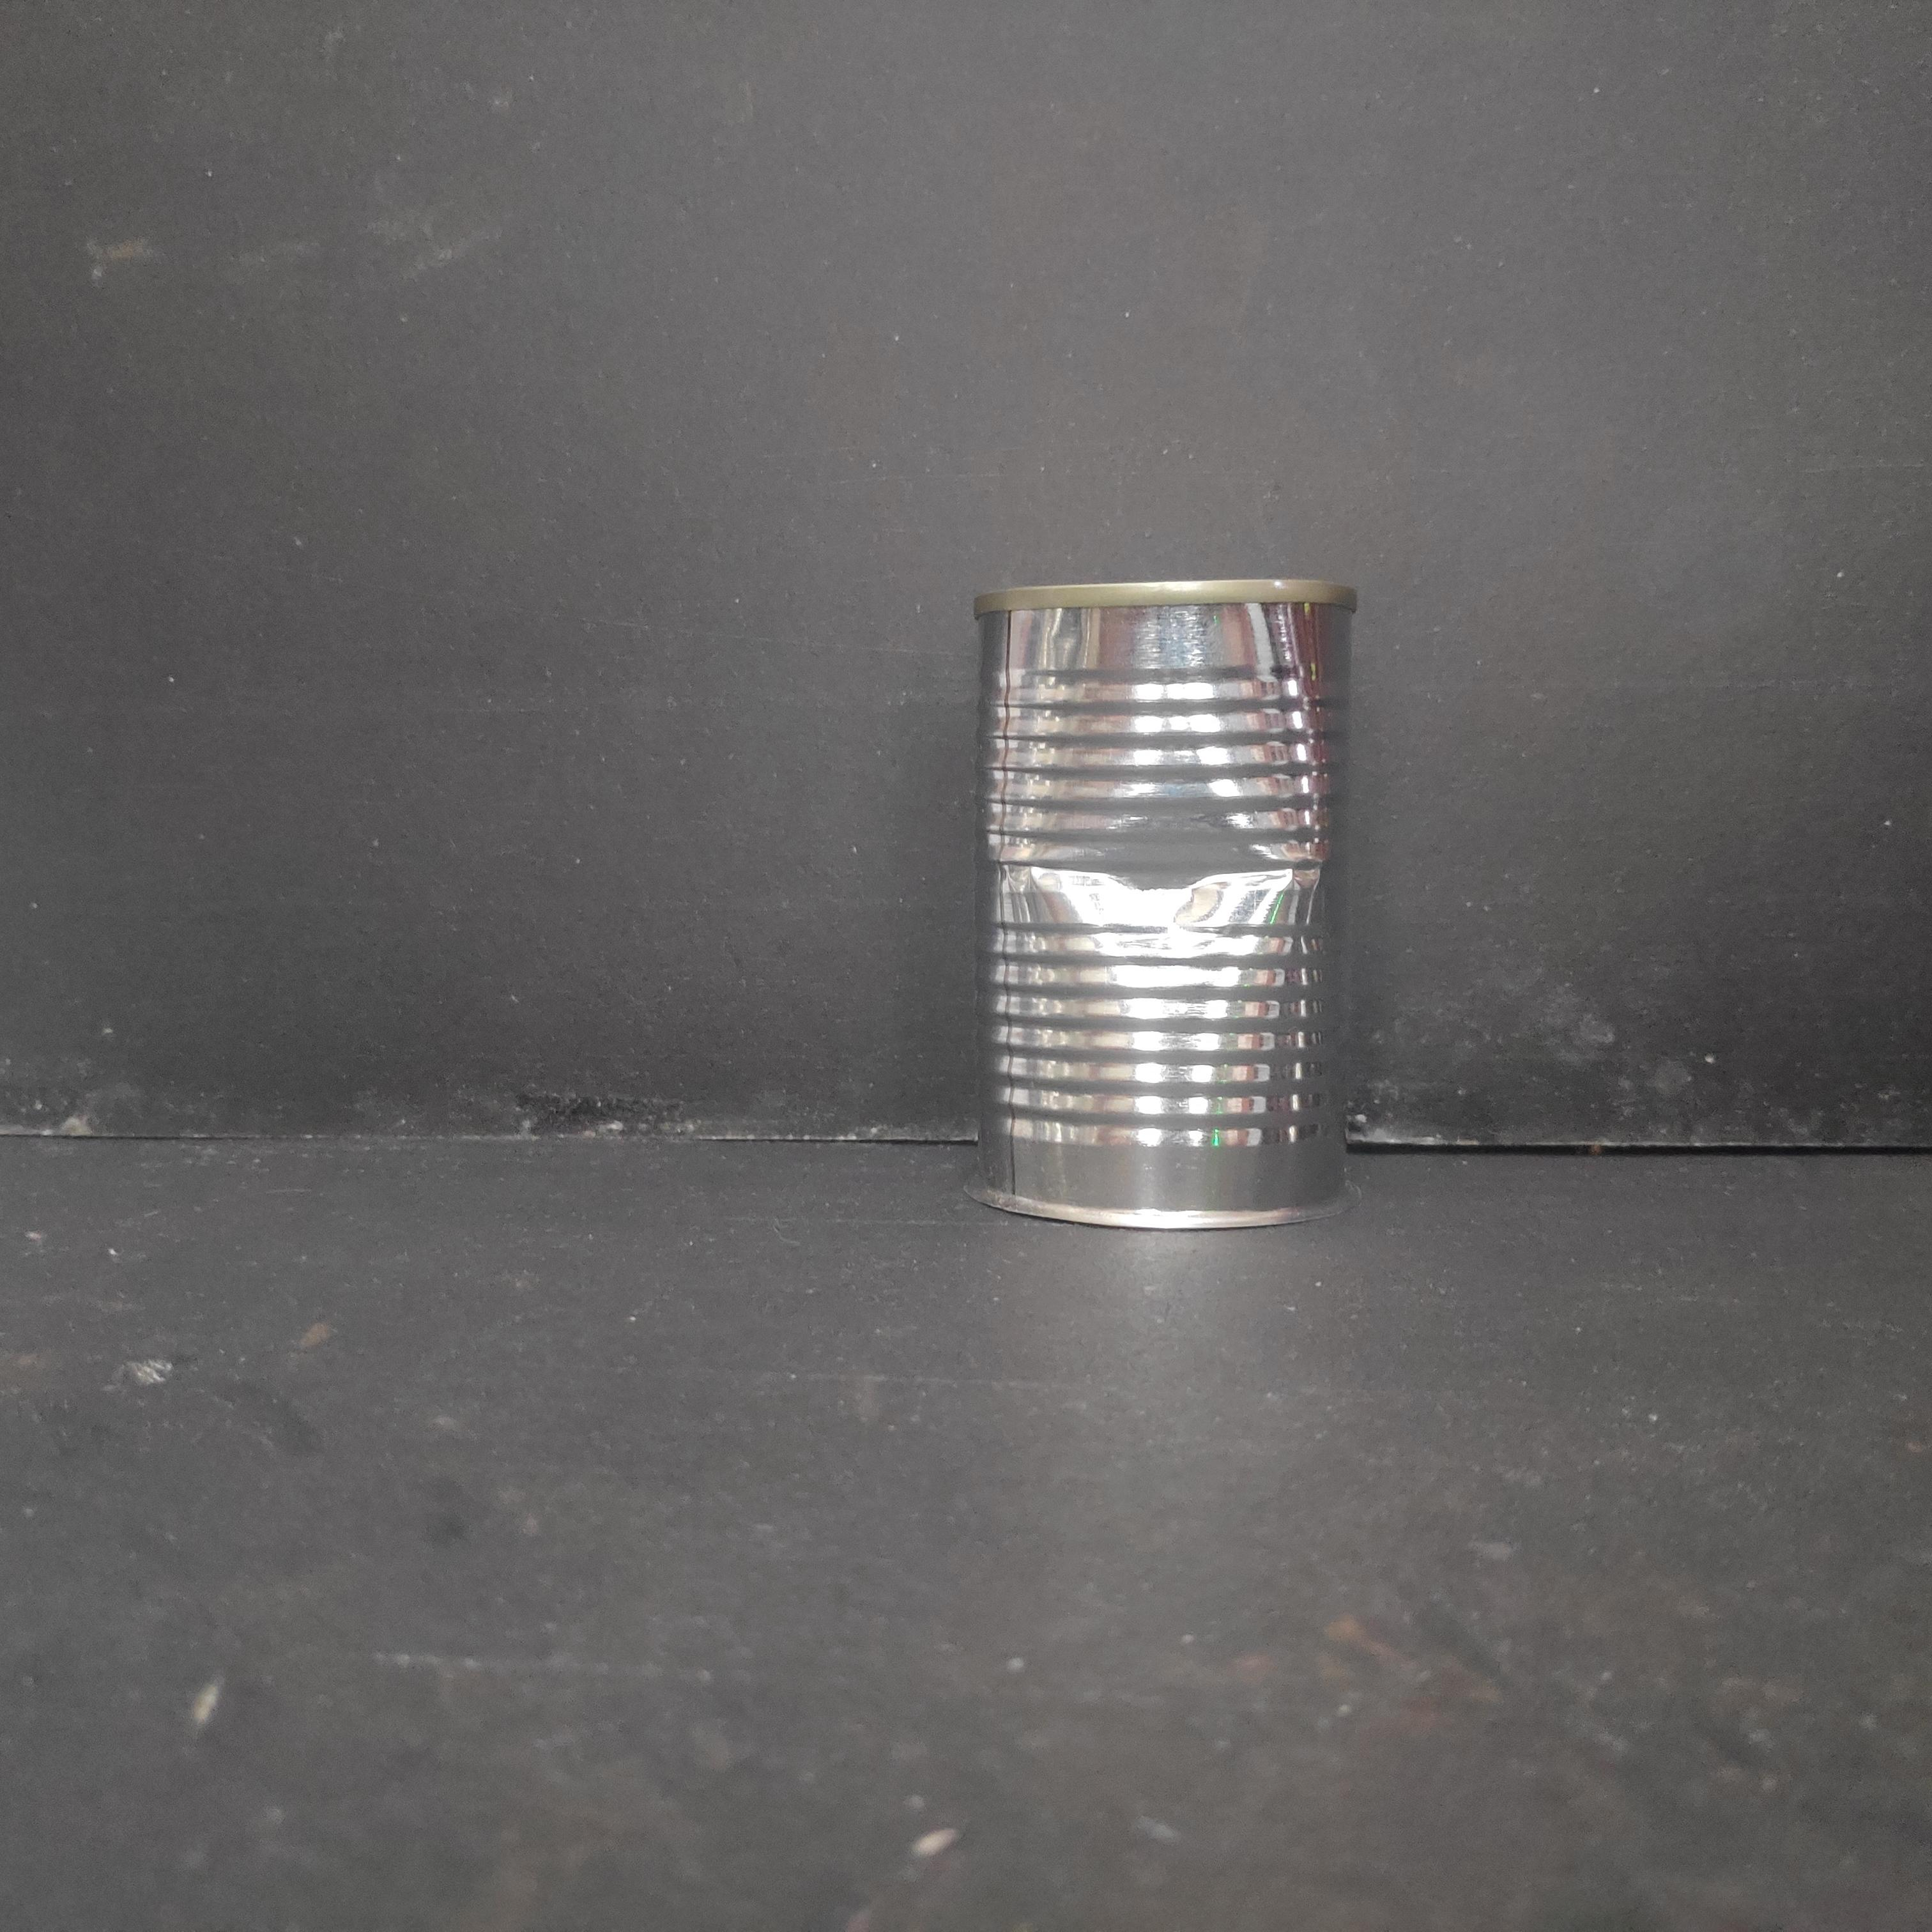Minor Defect: (956, 572, 1353, 1241)
